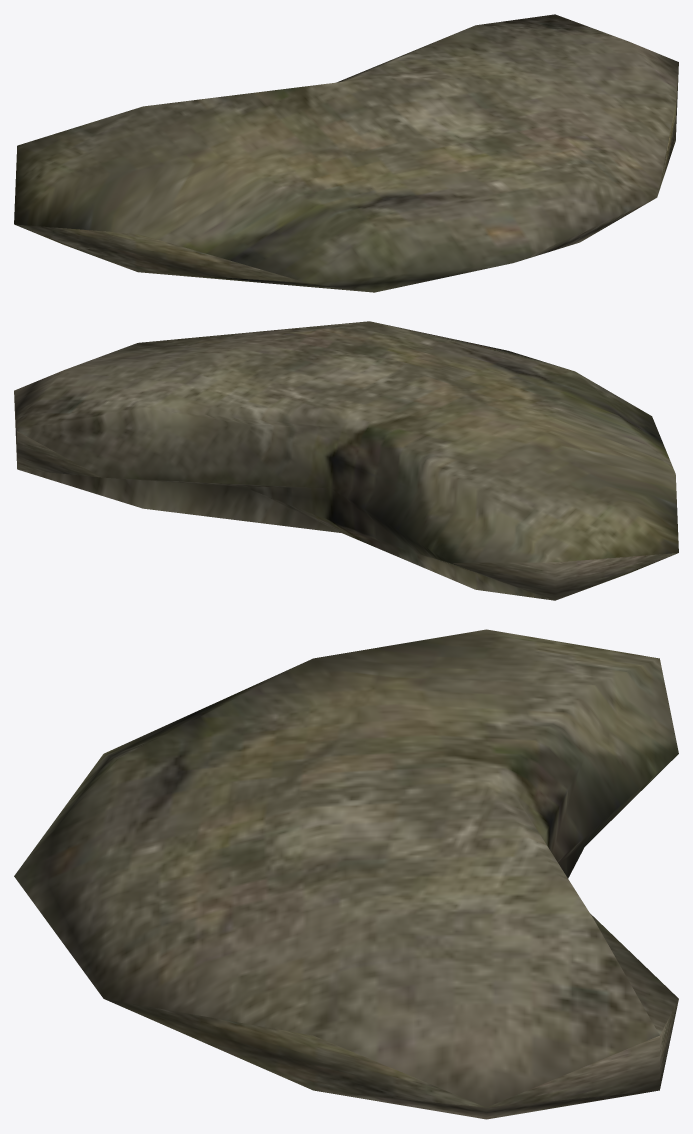
Rendered from stone2.obj.
The picture shows the model from 3 angles, top to bottom: view 1: azimuth 30°, elevation 25°; view 2: azimuth 150°, elevation 25°; view 3: azimuth 270°, elevation 25°; orthographic projection. The views are drawn at different scales.
Visible parts, largest first — view 1: GeoSphere04, oko; view 2: GeoSphere04, oko; view 3: GeoSphere04, oko.
Part boxes in pixels (x1,y1,x2,y2): GeoSphere04: [14, 14, 678, 292]; oko: [14, 64, 678, 282]; GeoSphere04: [14, 321, 678, 600]; oko: [14, 393, 677, 600]; GeoSphere04: [14, 629, 678, 1119]; oko: [104, 999, 678, 1107].
Size of the model in its own units: 131 by 23.36 by 79.15.
1 material, 1 textured.
